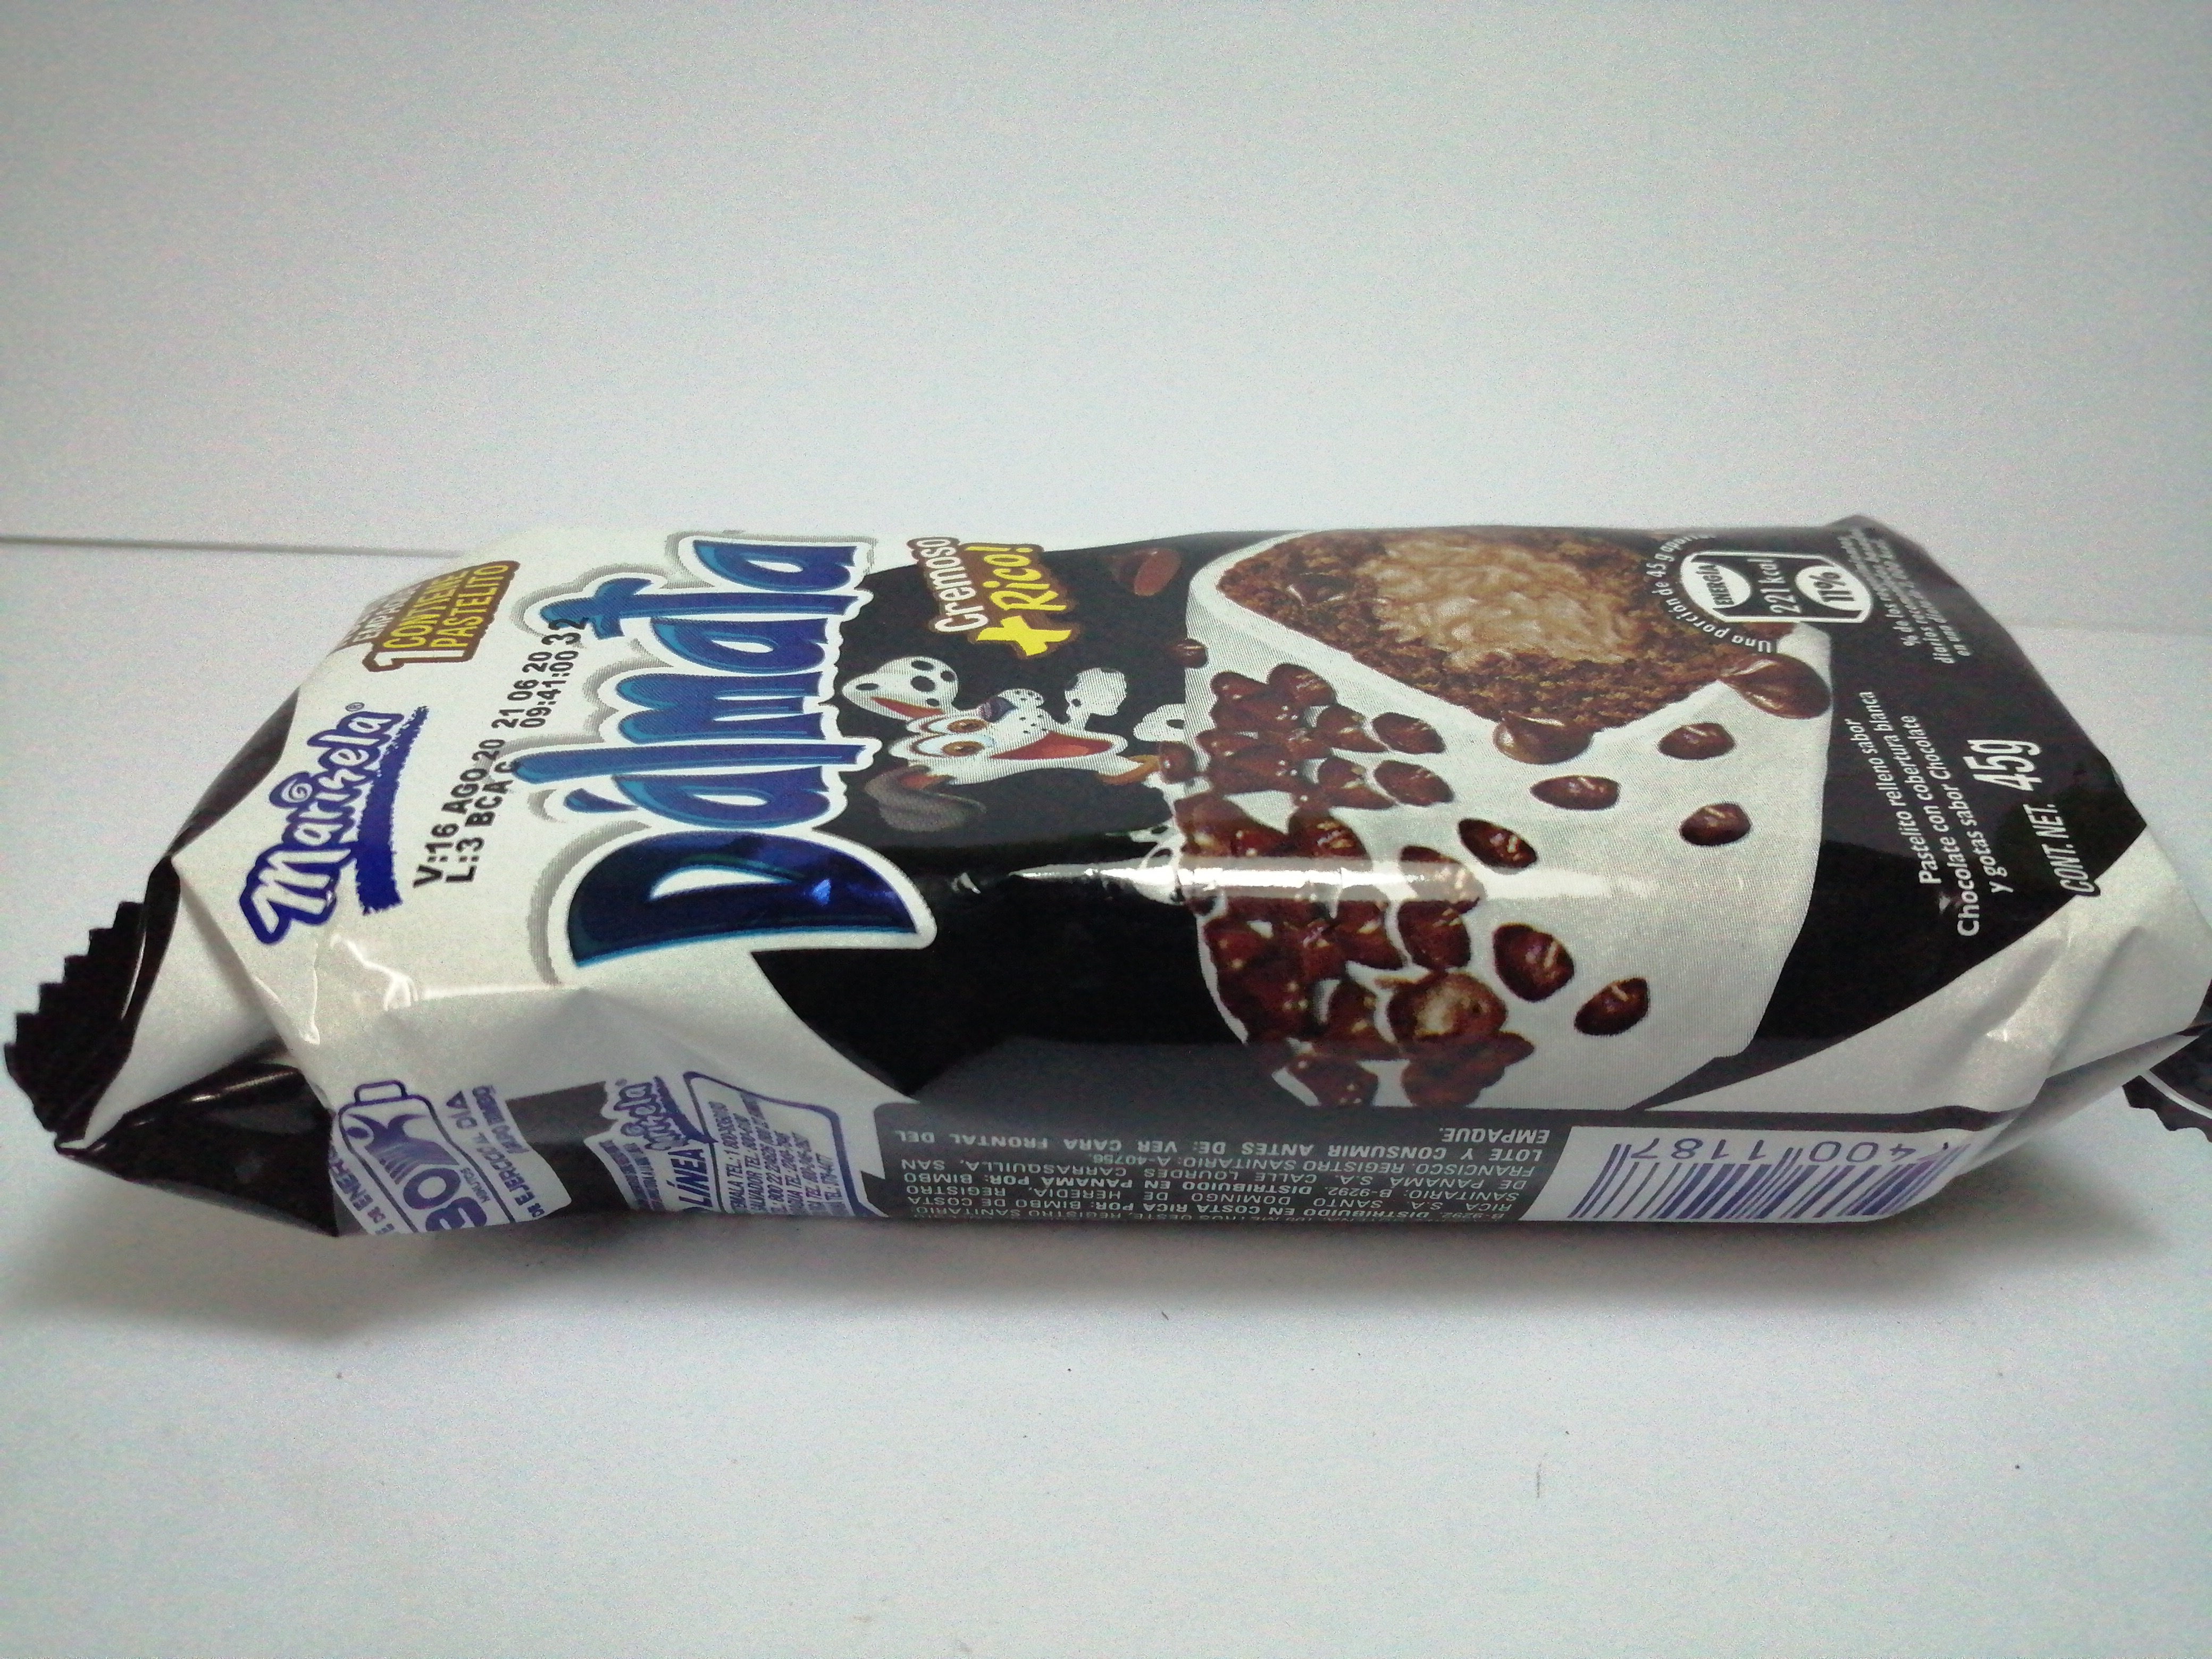dalmata: (7, 484, 2210, 1265)
